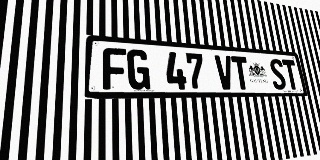4: (165, 51, 187, 90)
7: (184, 53, 206, 90)
F: (103, 47, 127, 90)
G: (127, 49, 150, 90)
S: (268, 58, 287, 90)
T: (231, 56, 251, 90), (282, 59, 300, 90)
V: (214, 55, 235, 90)
